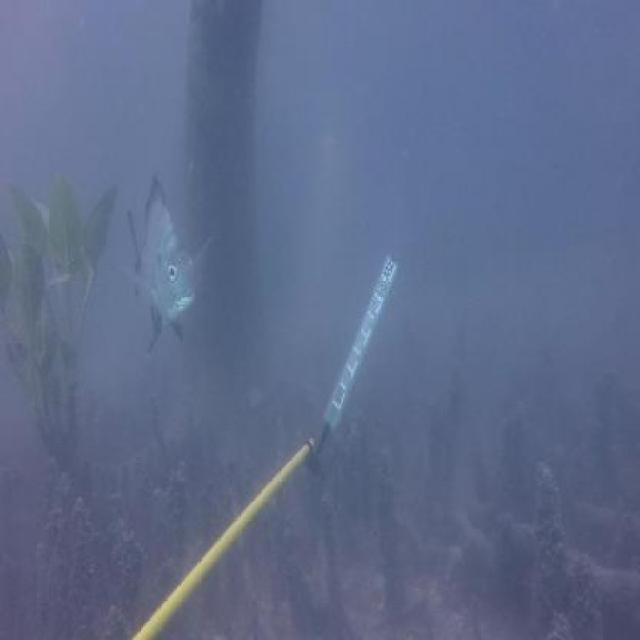acanthopagrus_palmaris: (124, 169, 204, 357)
